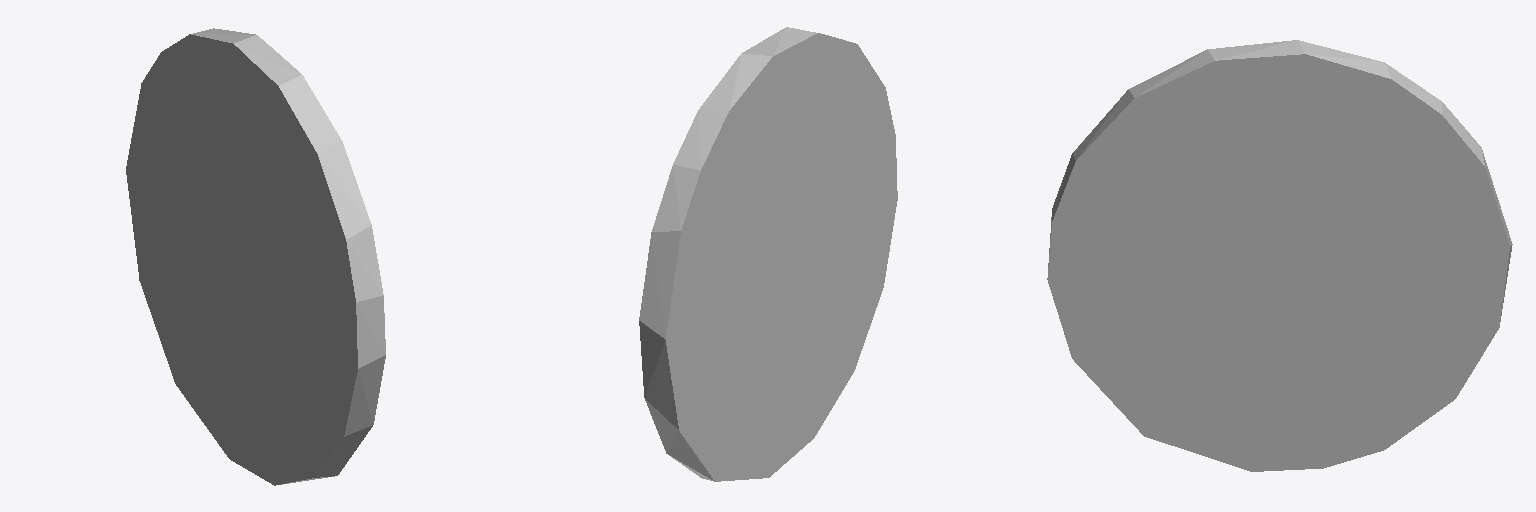
File: Target.obj
3 views of the same model, side by side, from view 1: azimuth 30°, elevation 25°; view 2: azimuth 150°, elevation 25°; view 3: azimuth 270°, elevation 25° (orthographic).
Visible parts, largest first — view 1: Cylinder; view 2: Cylinder; view 3: Cylinder.
Part boxes in pixels (x1,y1,x2,y2): Cylinder: (126,28,385,485); Cylinder: (639,27,897,481); Cylinder: (1047,40,1512,471).
Bounding box in the file's own units: 0.1189 × 1.72 × 1.73.